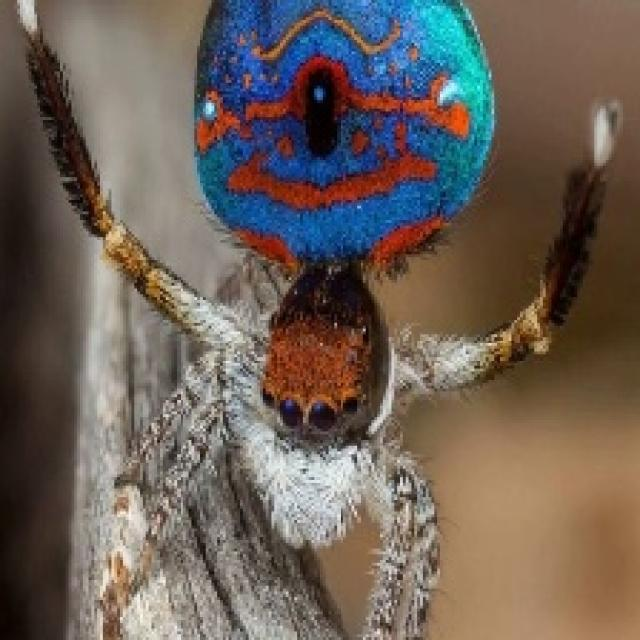Non venomous spider: (17, 9, 639, 640)
